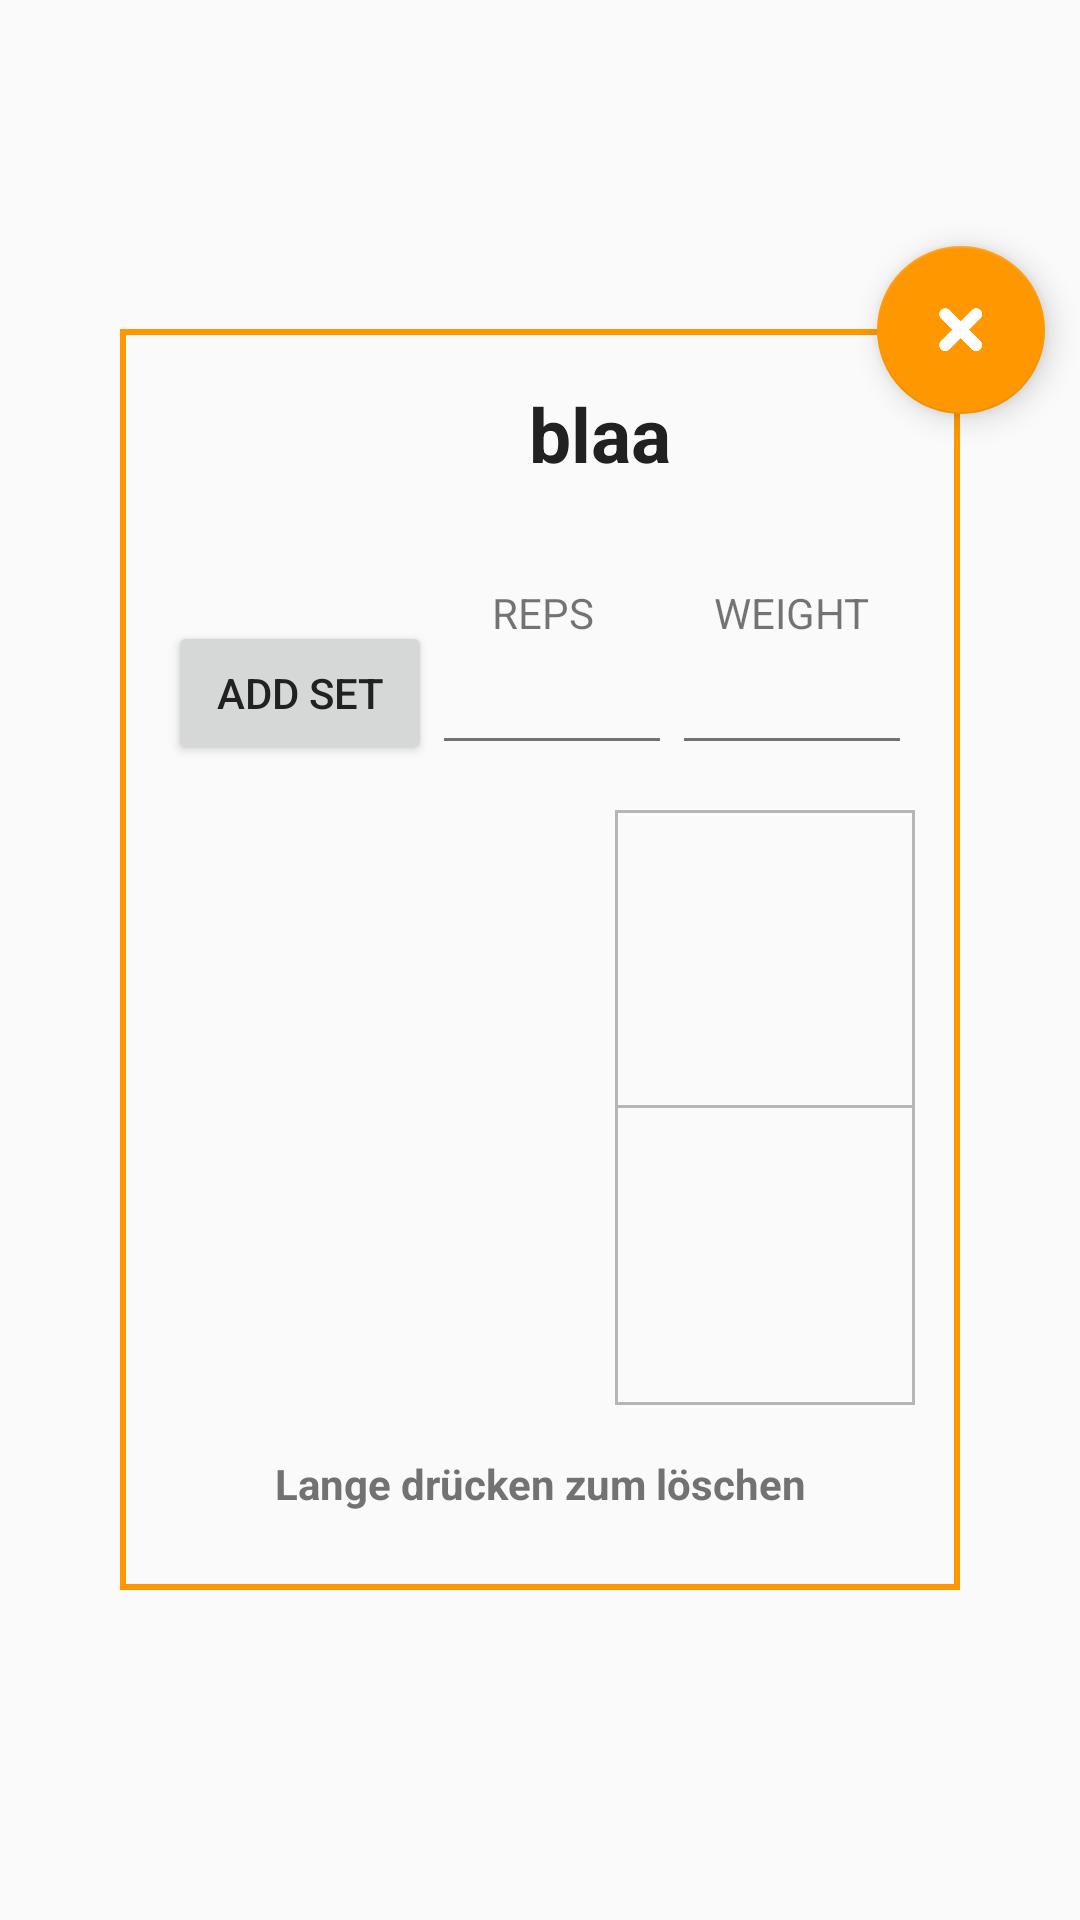

Where icons sit on this 1080px×1920px app screen, as box(x1, y1, x2, y2):
closecross: box(877, 246, 1045, 414)
